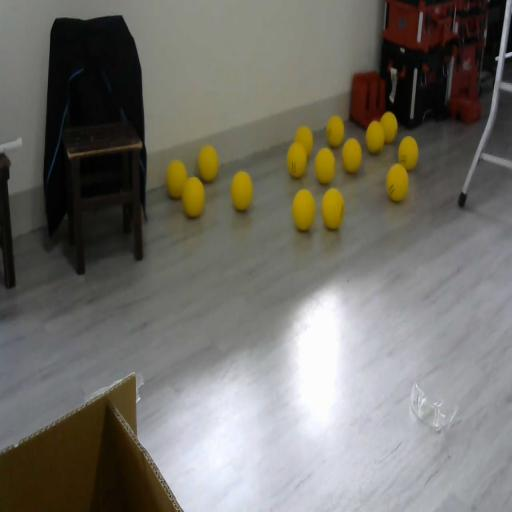FUEL: (291, 188, 316, 232), (230, 169, 254, 212), (321, 187, 345, 230), (181, 175, 205, 218), (386, 163, 408, 202), (166, 159, 187, 199), (314, 147, 336, 184), (342, 137, 363, 174), (198, 145, 219, 182), (398, 136, 419, 171), (294, 124, 314, 158), (326, 115, 344, 148), (380, 110, 398, 143)
